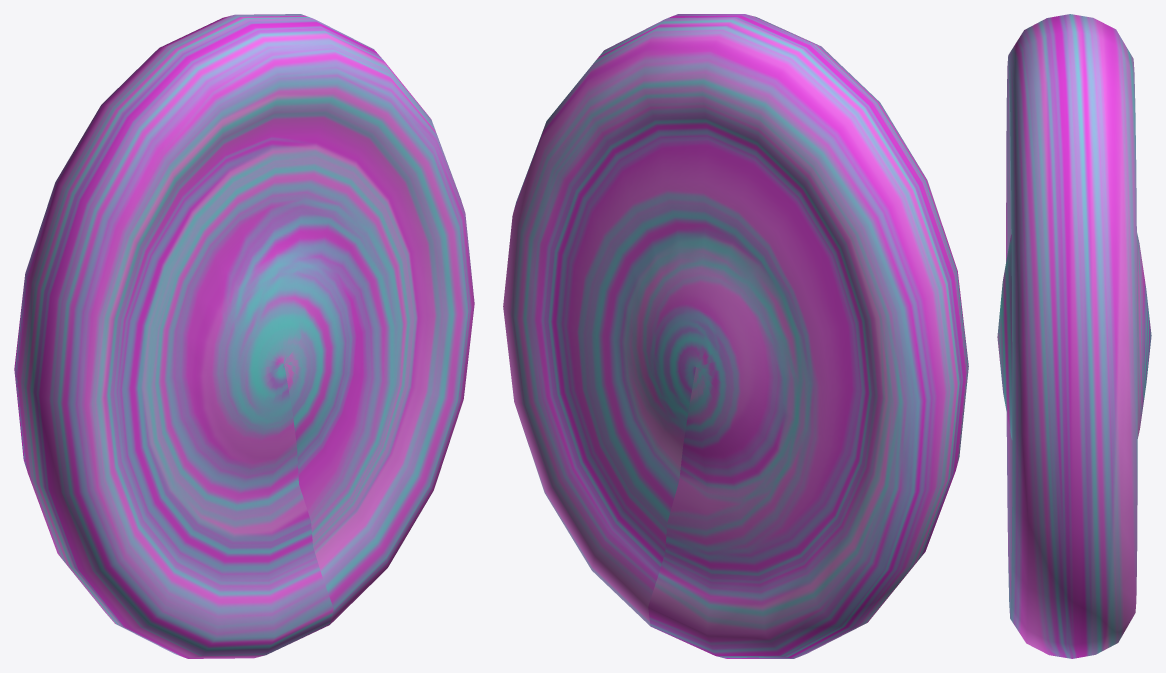
File: Bonbon1.obj
3 renders of one model, left to right at view 1: azimuth 30°, elevation 25°; view 2: azimuth 150°, elevation 25°; view 3: azimuth 270°, elevation 25°, orthographic. The views are drawn at different scales.
Visible parts, largest first — view 1: pSphere1; view 2: pSphere1; view 3: pSphere1.
Part boxes in pixels (box(x1,y1,x2,y2)): pSphere1: box(14, 14, 474, 658); pSphere1: box(503, 14, 968, 658); pSphere1: box(997, 14, 1151, 658).
Size of the model in its own units: 2.6 by 3.6 by 0.8218.
